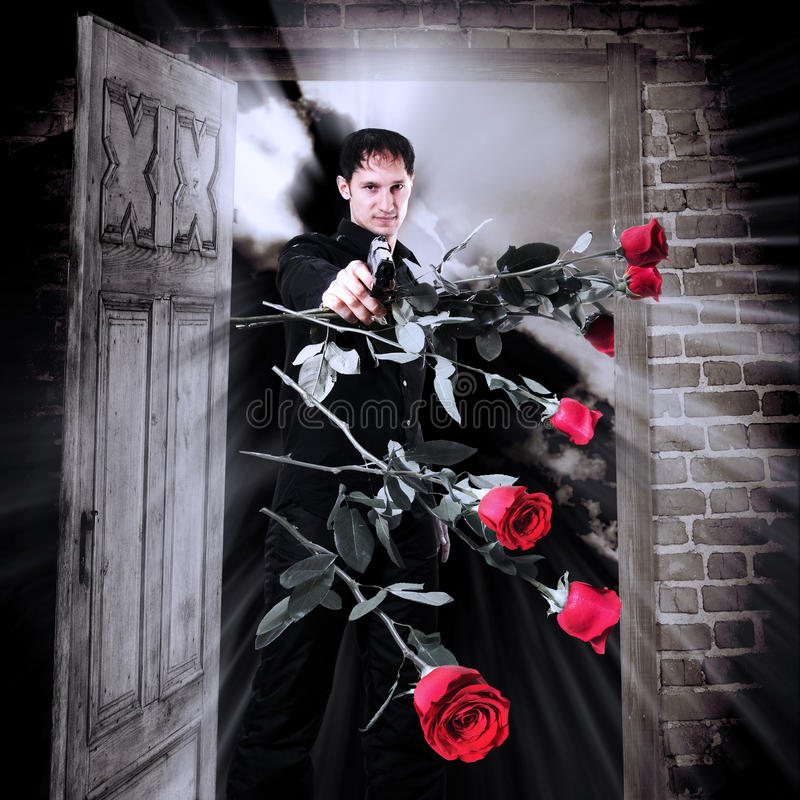RedRose: (404, 657, 514, 760), (474, 475, 560, 560), (557, 571, 631, 655), (542, 384, 612, 454), (622, 218, 678, 267)
